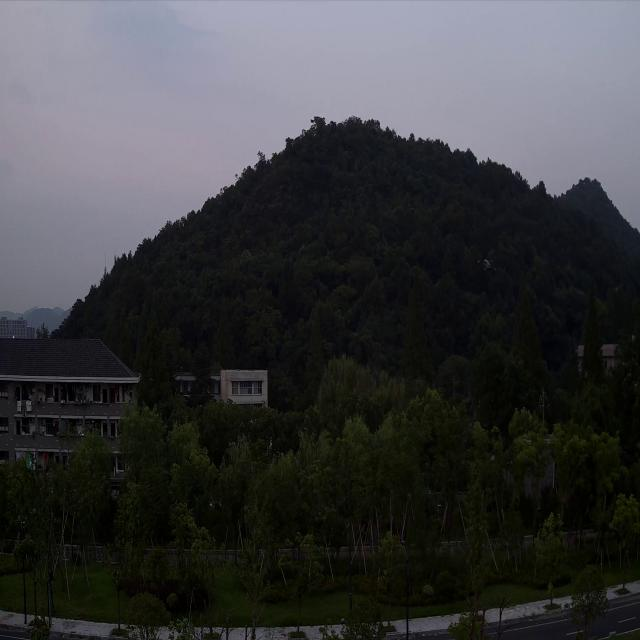drone: (478, 256, 497, 273)
